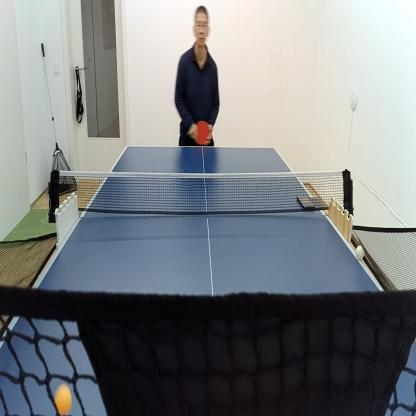Ball: (54, 382, 73, 416), (355, 244, 365, 262)
